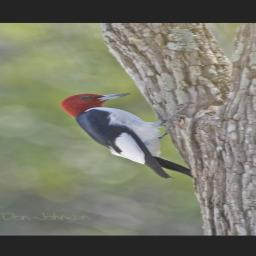Woodpecker: (56, 89, 201, 181)
